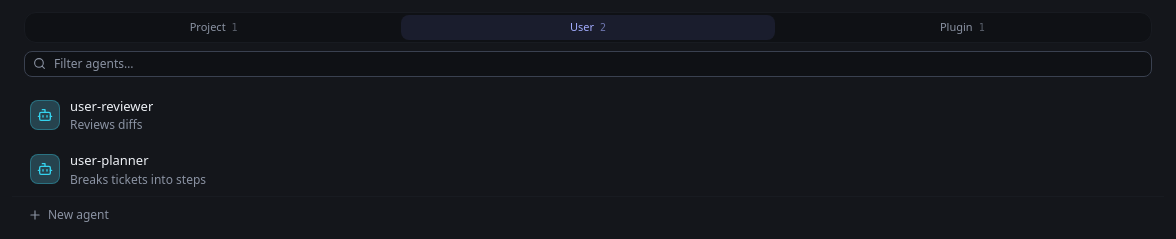
it: AgentsZone › filters the visible list by name and description
The image size is (1176, 239).
Type "tickets" into the field labelled "Filter agents" at (598, 64), box 54,56 -> 1143,72
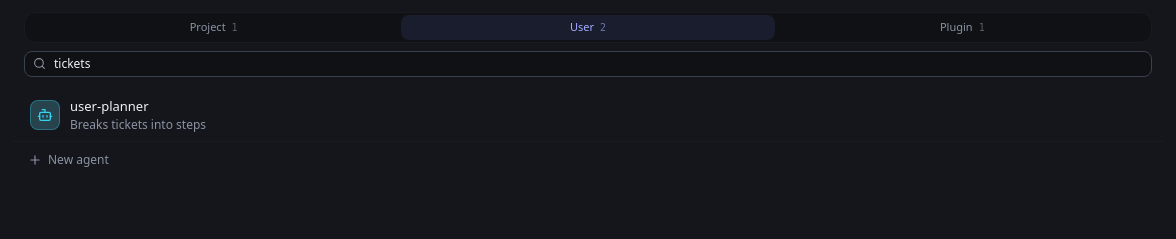
Check: the text "user-planner" is shown, box 70,96 -> 149,116
Check: the button "user-reviewer" is gone
Replace the text in the field named "Filter agents" with "reviewer" at (598, 64), box 54,56 -> 1143,72
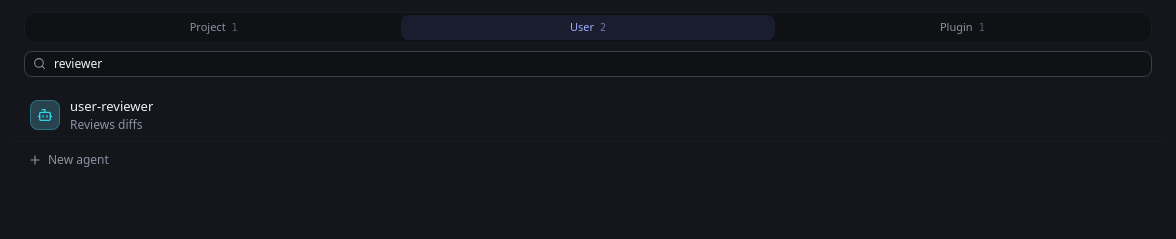
Check: the text "user-reviewer" is shown, box 70,96 -> 153,116
Check: the button "user-planner" is gone
